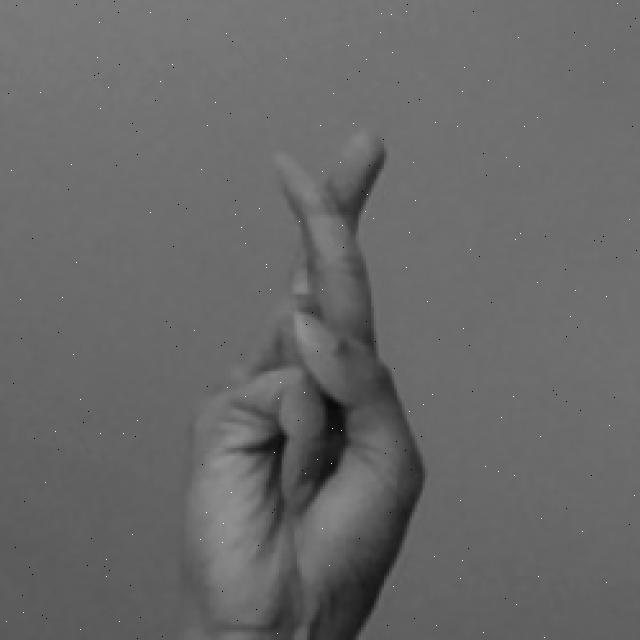R: (173, 124, 429, 640)
